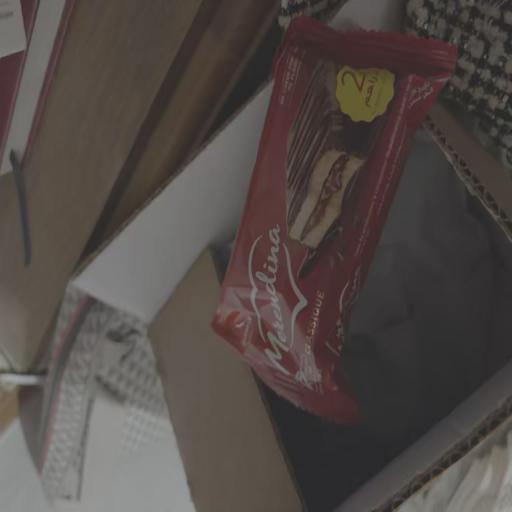merendina: (212, 12, 469, 426)
